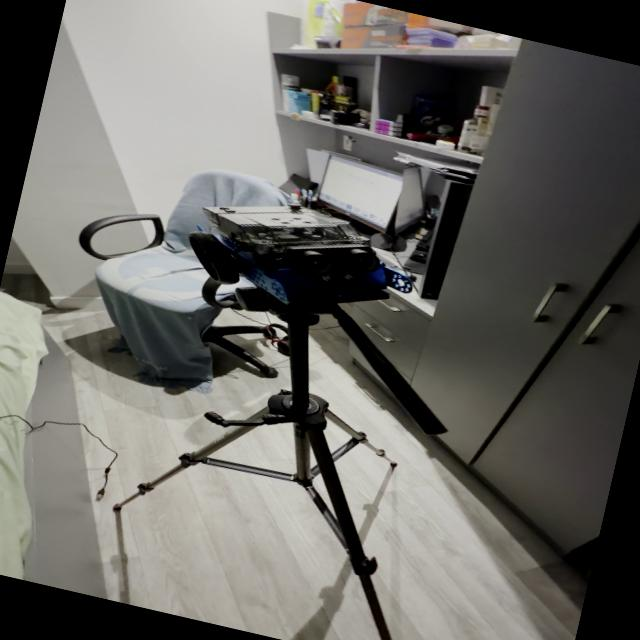mbot-detection: (174, 174, 438, 340)
